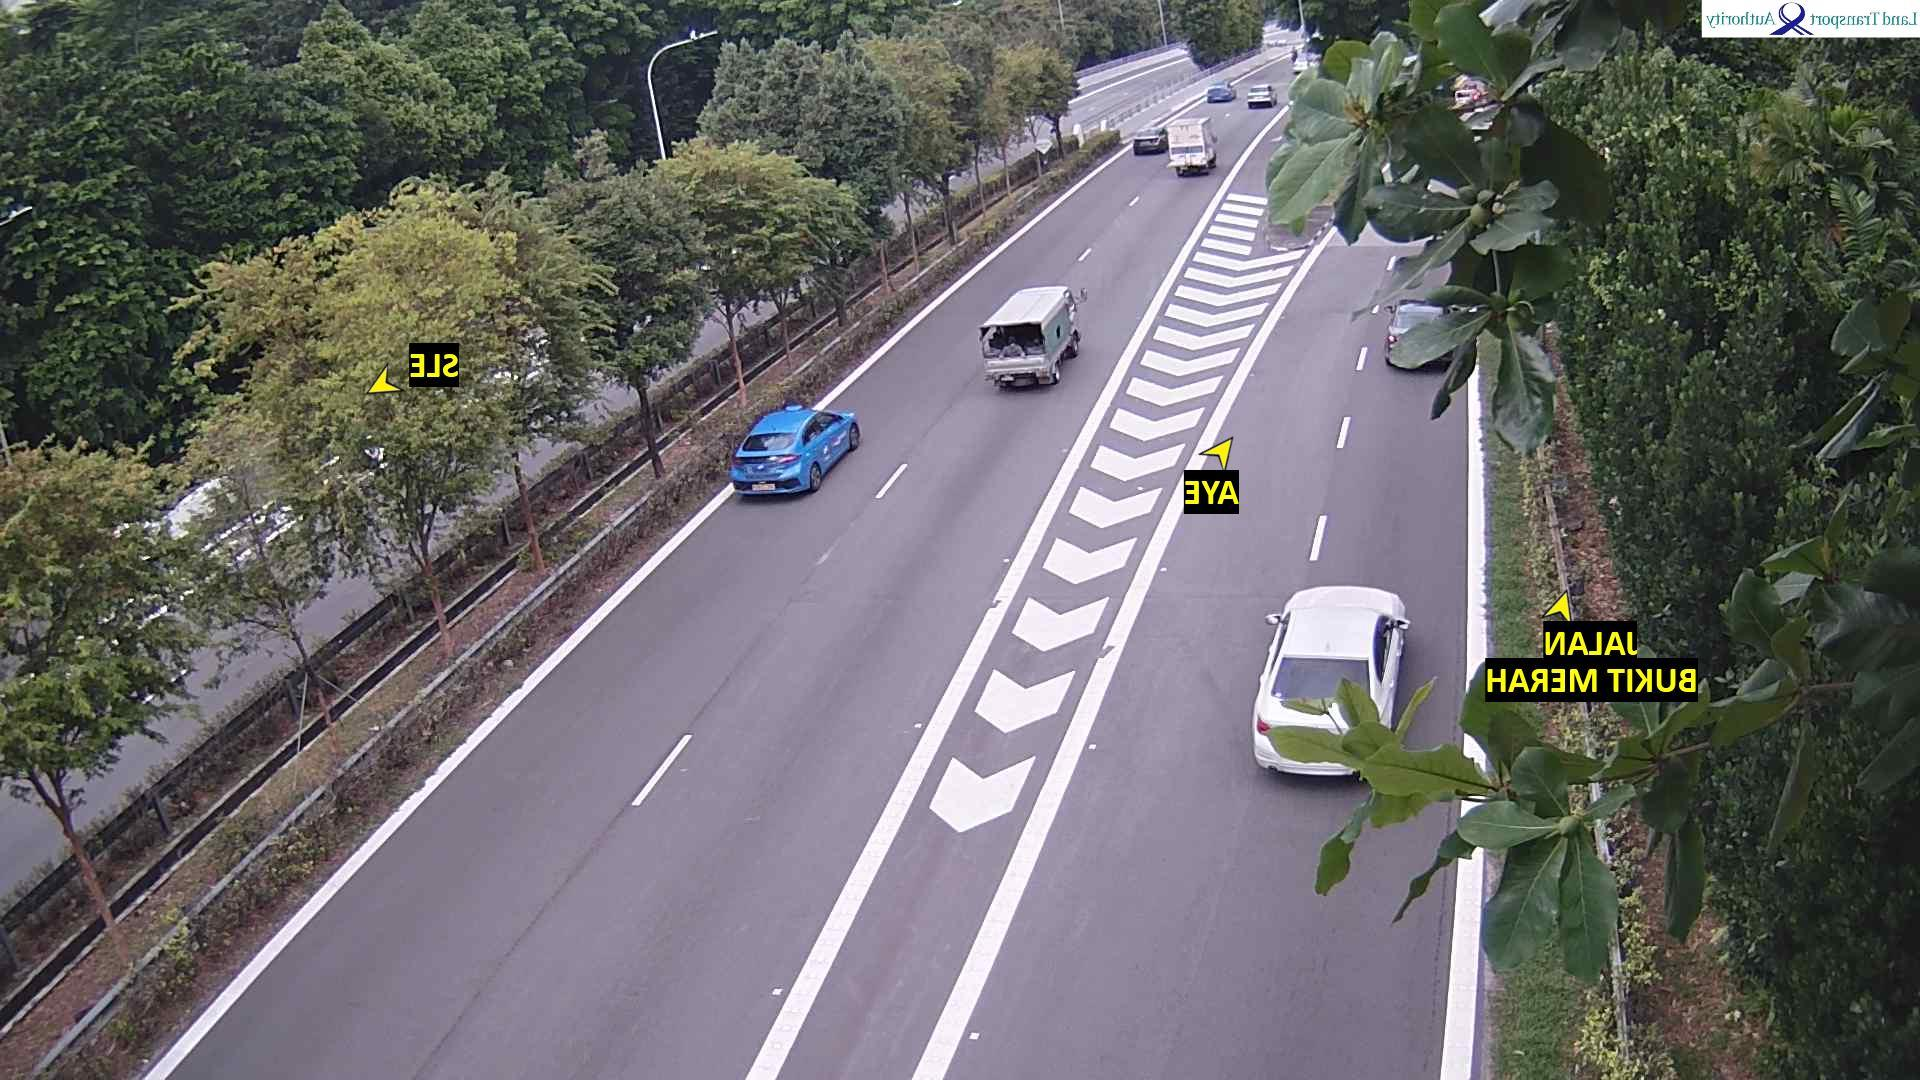cars: (1251, 583, 1412, 781), (731, 404, 862, 497), (978, 284, 1087, 392), (1385, 301, 1460, 371), (1441, 76, 1494, 121), (1286, 38, 1328, 78), (1133, 124, 1168, 153), (1247, 82, 1278, 107), (1208, 82, 1236, 102)
trucks: (1167, 113, 1218, 175)
